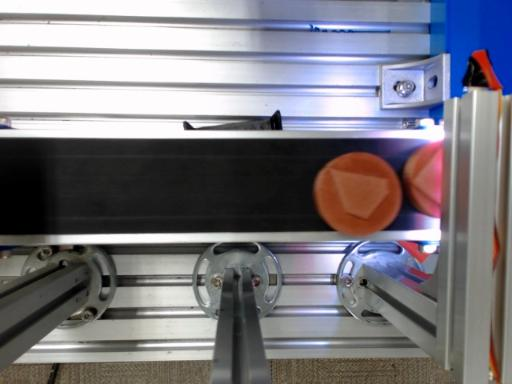Brown_Waper: (314, 152, 402, 234), (403, 142, 442, 217)
